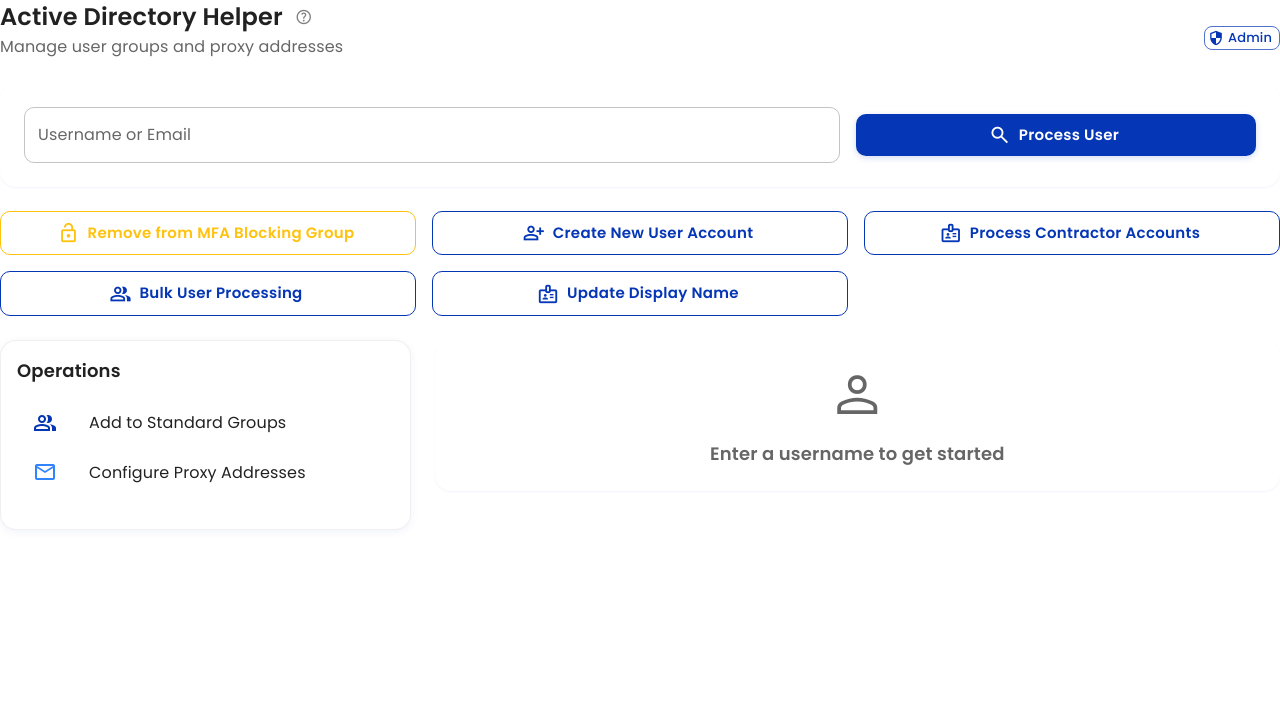
Test case: ADHelper Page › Bulk Processing › opens bulk processing dialog when button is clicked
Expected: the heading "Active Directory Helper" is shown, [0, 0, 283, 34]
What coordinates should you click on to do the following:
click the button "Bulk User Processing"
I would click on:
 (208, 294)
Its box is [0, 271, 416, 316].
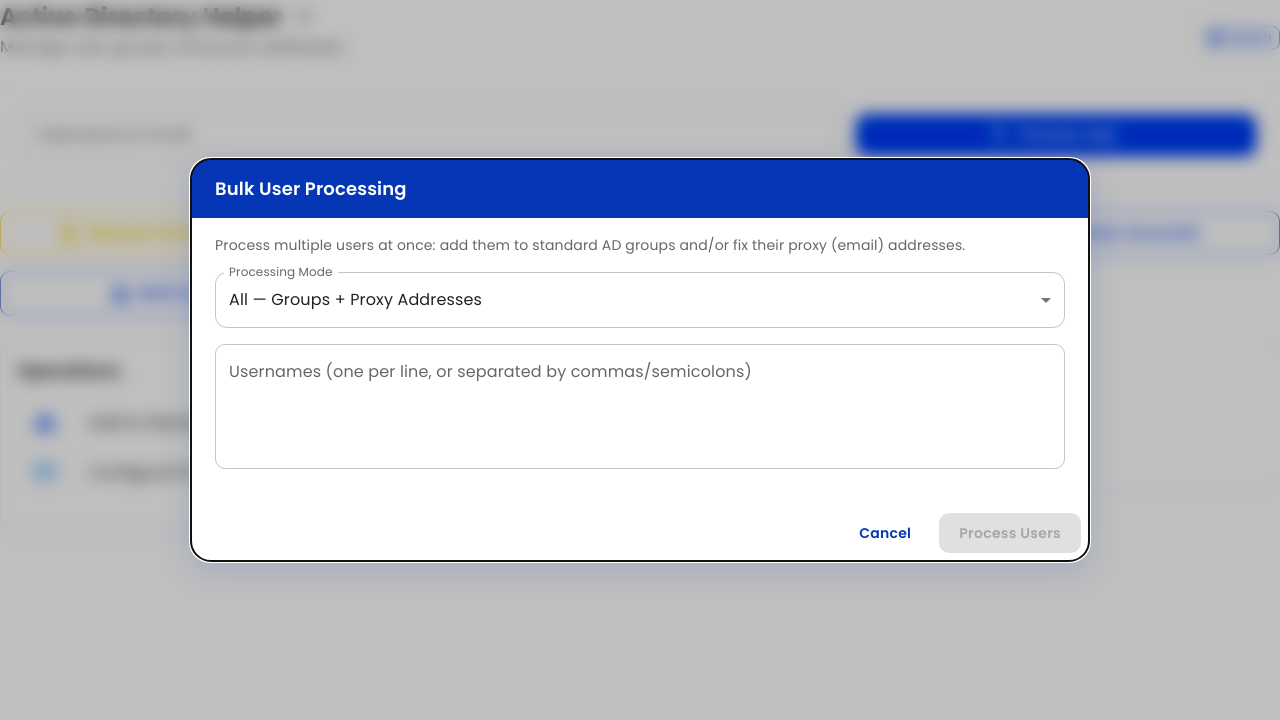
Result: the dialog is shown at [190, 158, 1090, 562]
